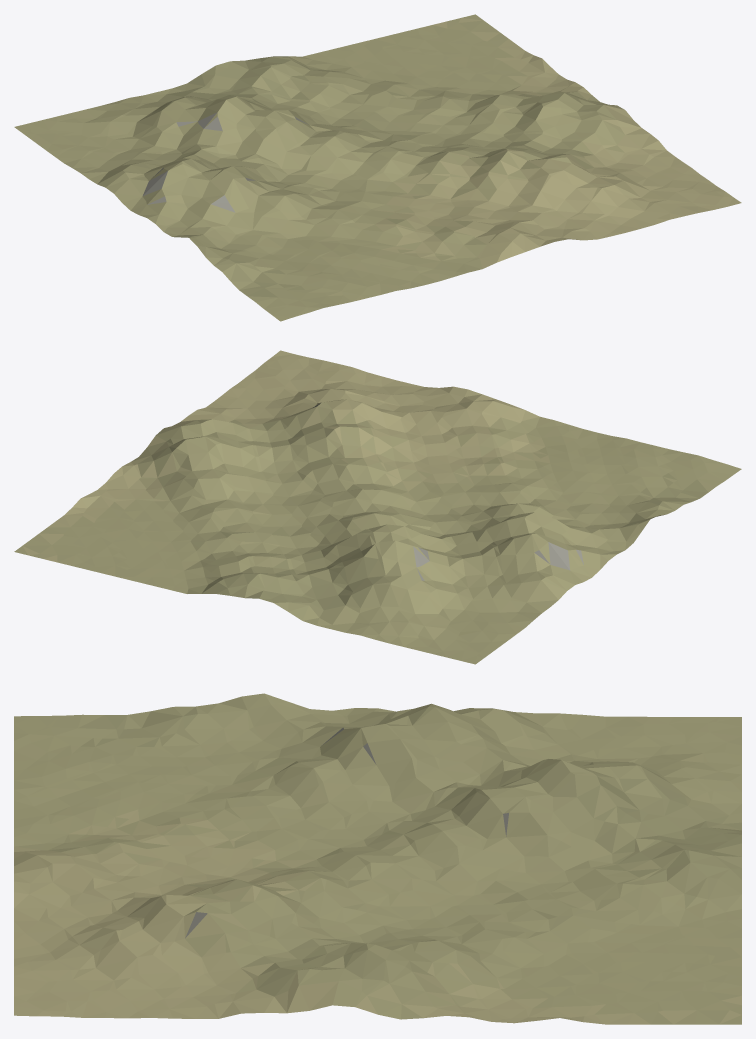
Rendered from Ground_1_4.glb.
The picture shows the model from 3 angles, top to bottom: view 1: azimuth 30°, elevation 25°; view 2: azimuth 150°, elevation 25°; view 3: azimuth 270°, elevation 25°; orthographic projection. The views are drawn at different scales.
Parts seen in each view (by area): view 1: Ground_1_4; view 2: Ground_1_4; view 3: Ground_1_4.
Part boxes in pixels (x1=…): Ground_1_4: x1=14, y1=14, x2=741, y2=321; Ground_1_4: x1=14, y1=350, x2=741, y2=664; Ground_1_4: x1=14, y1=693, x2=741, y2=1024.
Size of the model in its own units: 768 by 63.38 by 768.
